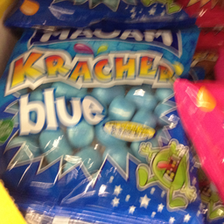candy: (11, 23, 191, 220)
